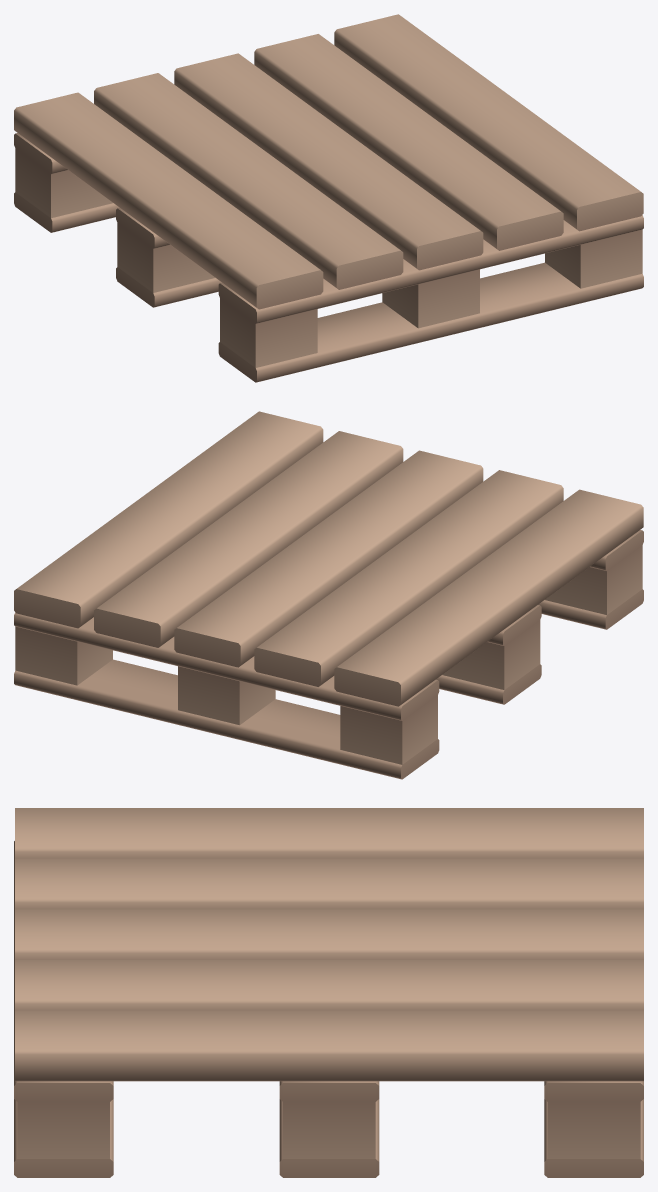
Rendered from wooden-pallet.glb.
3 views of the same model, one above another, from view 1: azimuth 30°, elevation 25°; view 2: azimuth 150°, elevation 25°; view 3: azimuth 270°, elevation 25° (orthographic). The views are drawn at different scales.
Parts seen in each view (by area): view 1: wooden-pallet; view 2: wooden-pallet; view 3: wooden-pallet.
Boxes of the visible parts, x1,y1,x2,y2 form: wooden-pallet: (14,14,643,382); wooden-pallet: (14,411,643,779); wooden-pallet: (14,808,643,1177).
Bounding box in the file's own units: 0.8285 × 0.2 × 0.9013.
